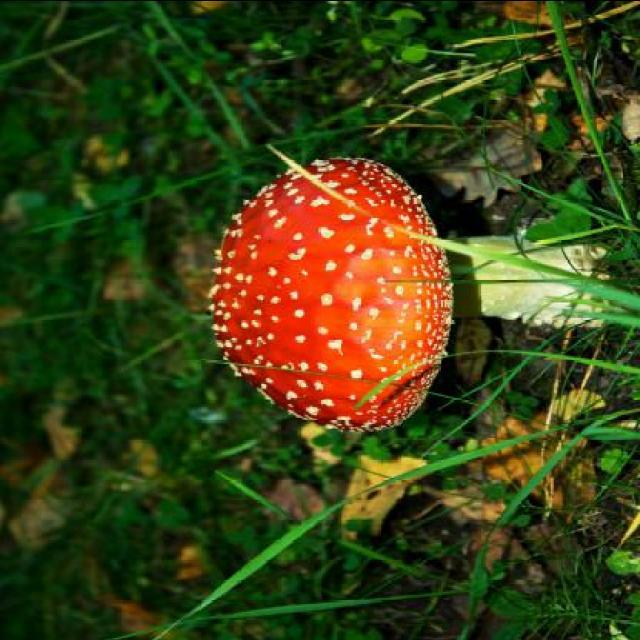Mushroom: (215, 154, 608, 428)
